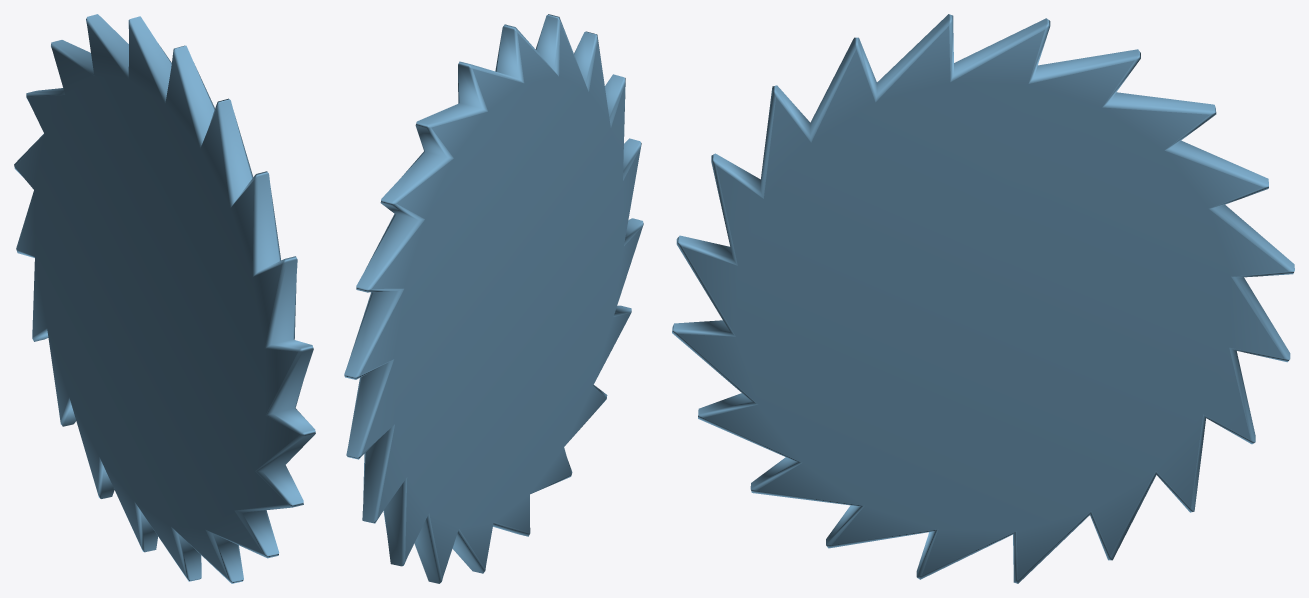
The model's file is saw_test.fbx.
3 renders of one model, left to right at view 1: azimuth 30°, elevation 25°; view 2: azimuth 150°, elevation 25°; view 3: azimuth 270°, elevation 25°, orthographic. The views are drawn at different scales.
Visible parts, largest first — view 1: saw; view 2: saw; view 3: saw.
Boxes of the visible parts, bbox=[...] form: saw: bbox=[14, 14, 315, 583]; saw: bbox=[344, 14, 643, 583]; saw: bbox=[672, 14, 1294, 583].
Bounding box in the file's own units: 50.32 × 842 × 842.
